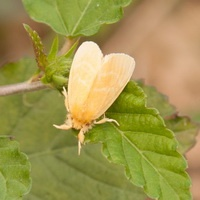insect: (54, 41, 134, 154)
